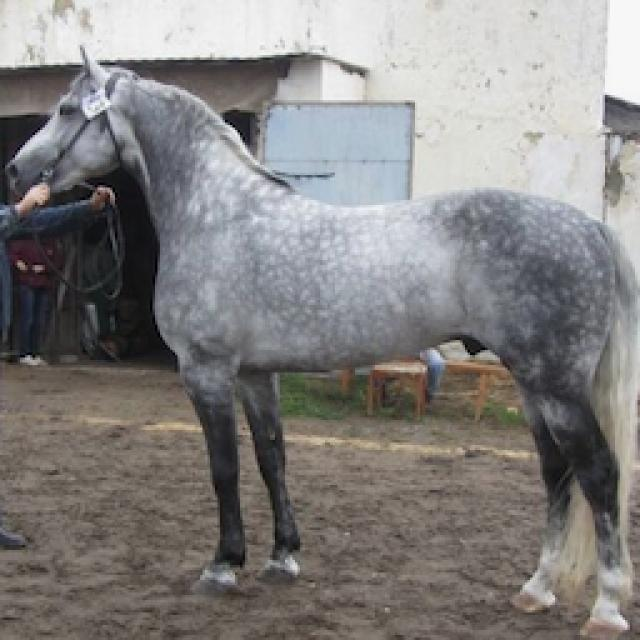Horse: (0, 40, 638, 638)
